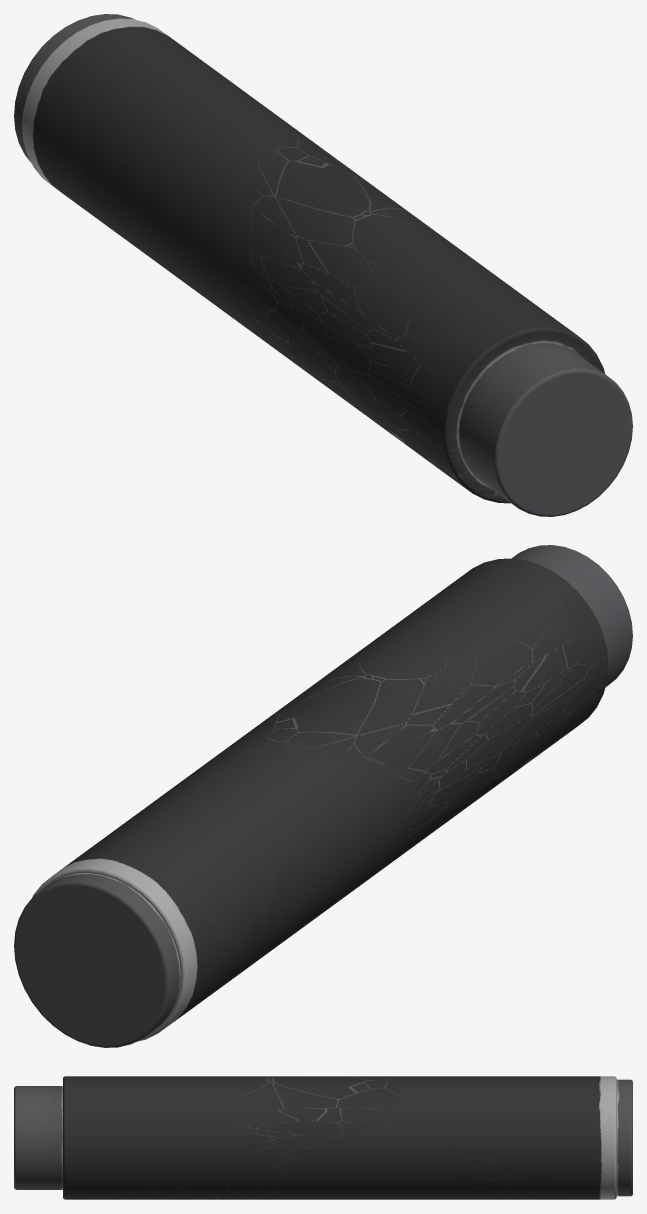
File: suppressor.gltf
The picture shows the model from 3 angles, top to bottom: view 1: azimuth 30°, elevation 25°; view 2: azimuth 150°, elevation 25°; view 3: azimuth 270°, elevation 25°; orthographic projection. The views are drawn at different scales.
Visible parts, largest first — view 1: Frame; view 2: Frame; view 3: Frame.
Boxes of the visible parts, x1,y1,x2,y2 form: Frame: (14, 14, 632, 516); Frame: (14, 545, 632, 1047); Frame: (14, 1076, 632, 1199).
Size of the model in its own units: 0.038 by 0.038 by 0.19.
2 materials, 2 textured.
